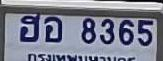3: (99, 18, 113, 43)
5: (137, 19, 152, 45)
6: (118, 19, 133, 44)
8: (81, 17, 95, 43)
A43: (43, 16, 61, 42)
A44: (19, 12, 40, 41)
